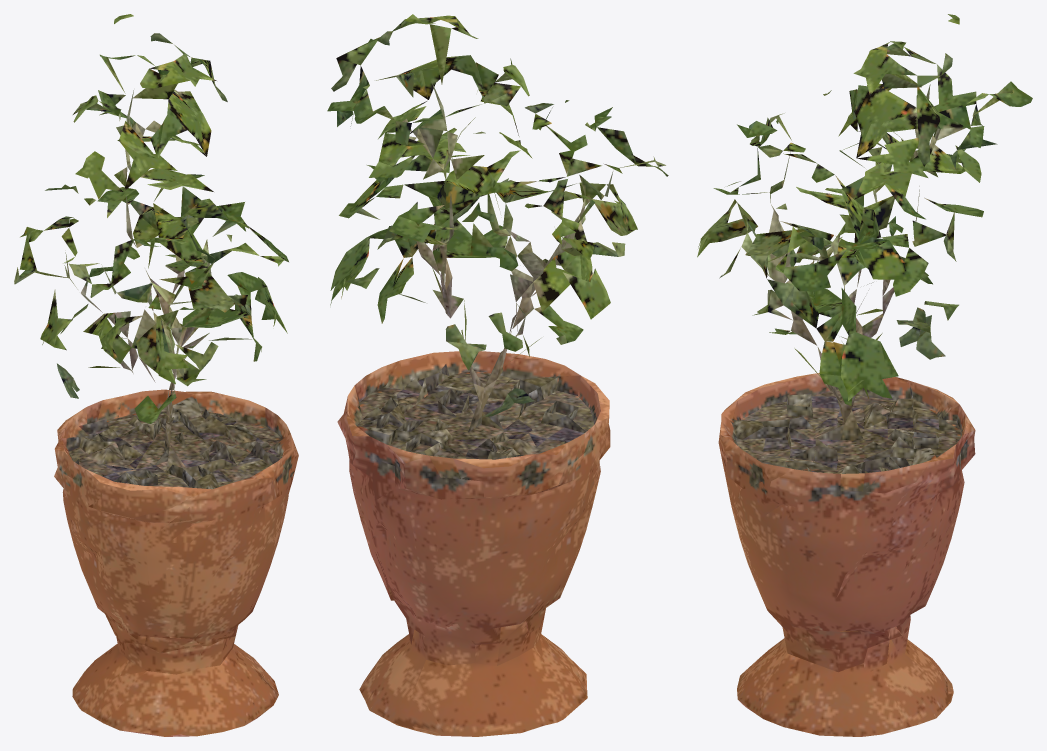
Rendered from potted_plant_01.glb.
3 views of the same model, side by side, from view 1: azimuth 30°, elevation 25°; view 2: azimuth 150°, elevation 25°; view 3: azimuth 270°, elevation 25° (orthographic). The views are drawn at different scales.
Visible parts, largest first — view 1: mesh; view 2: mesh; view 3: mesh.
Boxes of the visible parts, <box> form: mesh: <box>14,14,298,736</box>; mesh: <box>327,14,668,736</box>; mesh: <box>697,14,1032,736</box>.
Size of the model in its own units: 0.5757 by 1.35 by 0.6087.
1 material, 1 textured.
